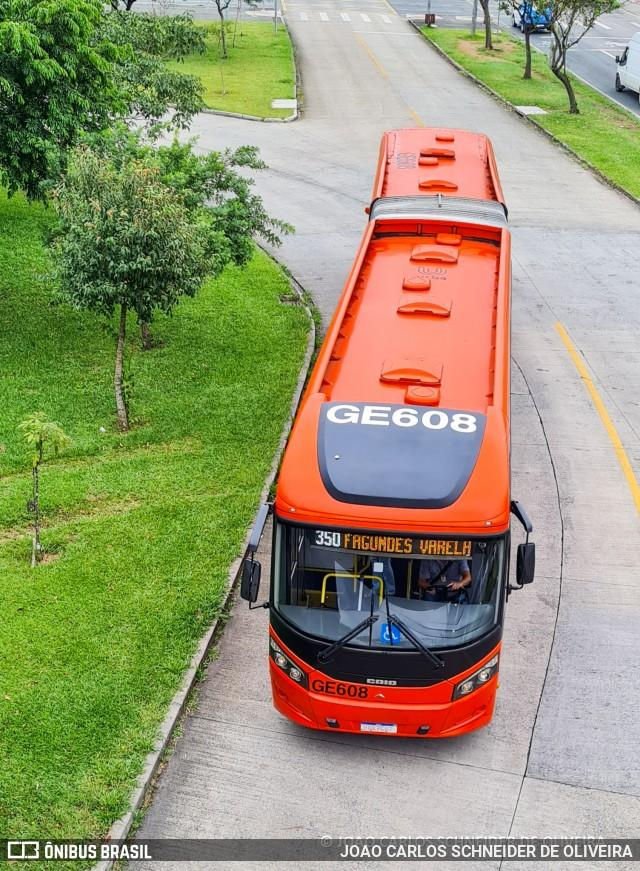FAGUNDES VARELA: (339, 530, 478, 564)
